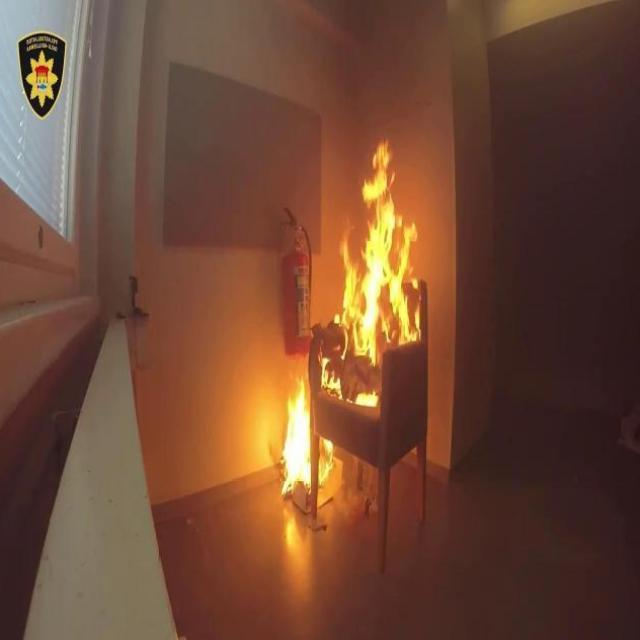smoke: (332, 138, 423, 366), (272, 386, 341, 507)
